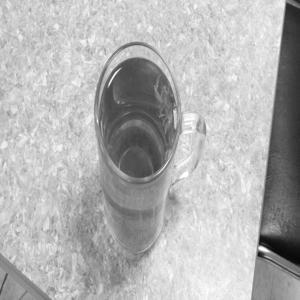tea: (78, 34, 202, 252)
